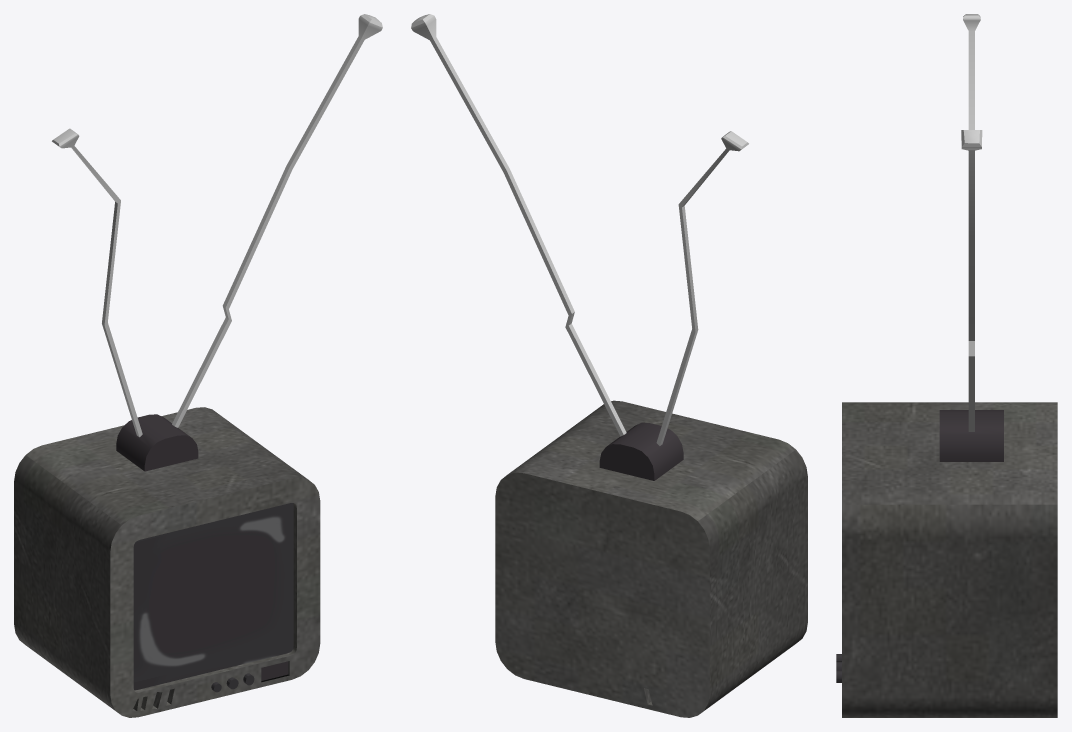
File: television_habitacion.obj
The picture shows the model from 3 angles, left to right: view 1: azimuth 30°, elevation 25°; view 2: azimuth 150°, elevation 25°; view 3: azimuth 270°, elevation 25°; orthographic projection. The views are drawn at different scales.
Size of the model in its own units: 2.94 by 5.06 by 1.54.
